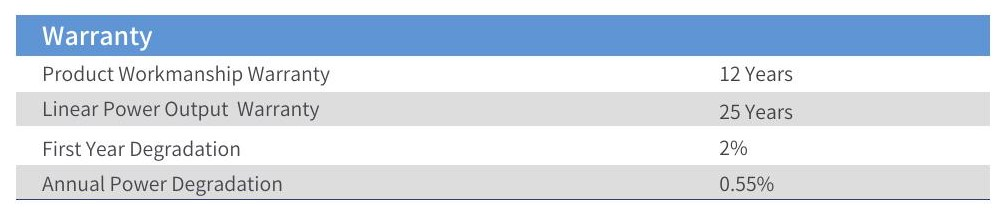table: (1, 50, 998, 208)
table column: (29, 53, 339, 205), (710, 51, 818, 205)
table row: (13, 92, 992, 123), (14, 132, 991, 163), (14, 58, 990, 87), (15, 168, 992, 196)
